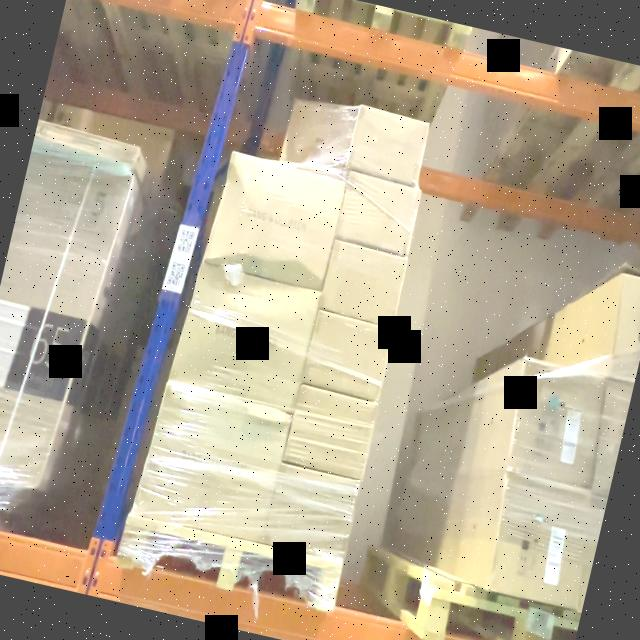box: (130, 382, 293, 542), (166, 260, 325, 412), (199, 153, 350, 291), (486, 472, 597, 612), (501, 357, 607, 488), (263, 463, 360, 562), (280, 384, 378, 481), (300, 309, 393, 405), (318, 240, 407, 327), (335, 170, 421, 257), (346, 104, 429, 187), (278, 100, 356, 179)
